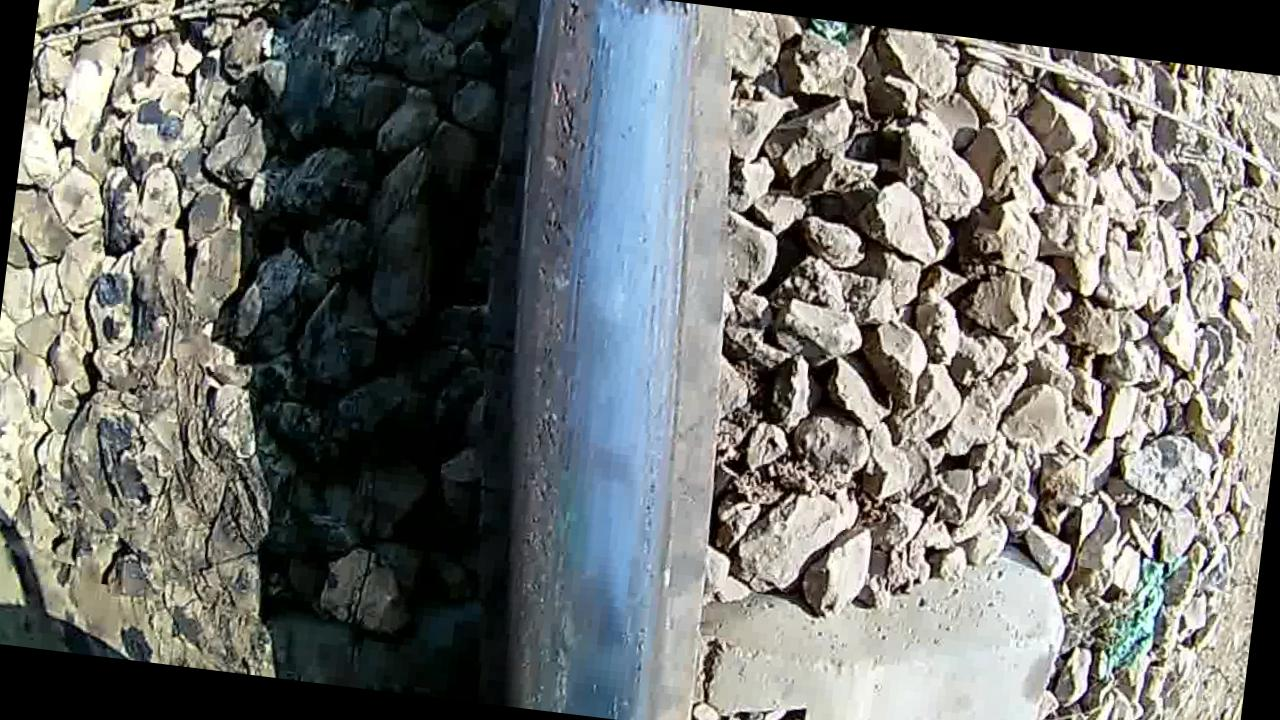crack: (455, 0, 738, 720)
